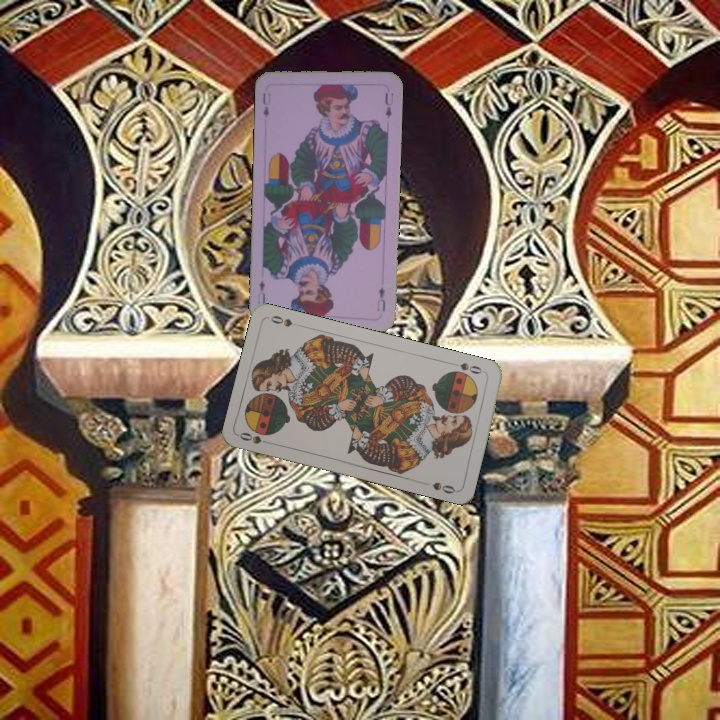EU: (373, 282, 388, 314), (259, 89, 273, 120)
SO: (448, 358, 488, 377), (236, 428, 276, 447)
